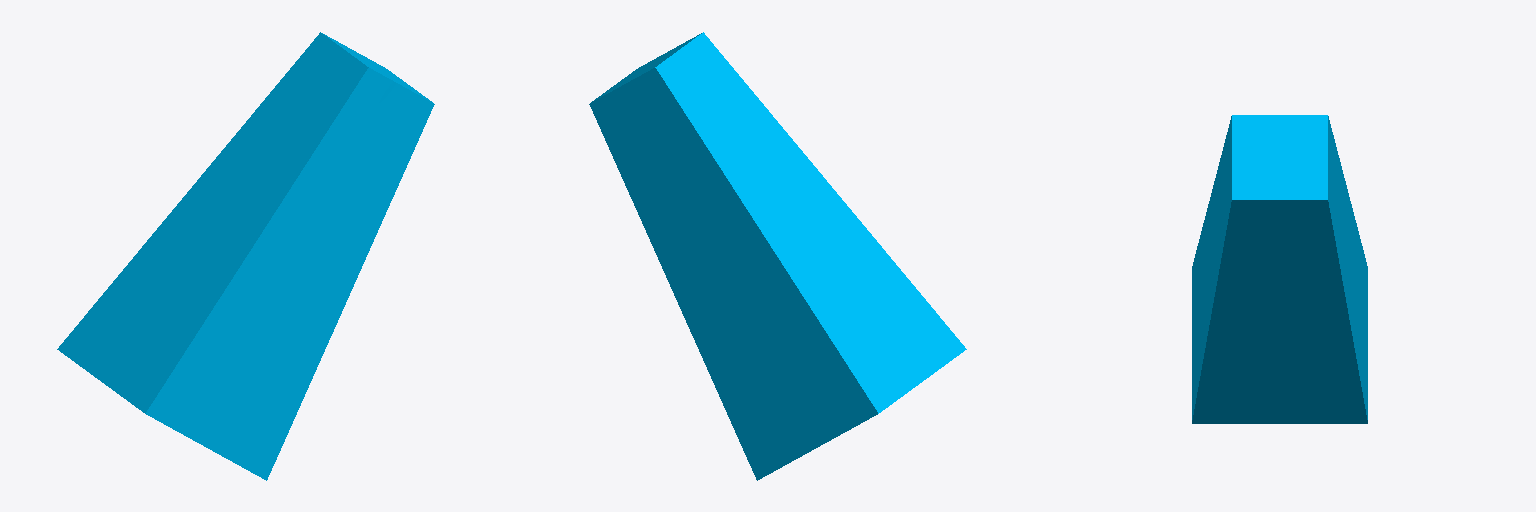
The picture shows the model from 3 angles: view 1: azimuth 30°, elevation 25°; view 2: azimuth 150°, elevation 25°; view 3: azimuth 270°, elevation 25°; orthographic projection.
Parts seen in each view (by area): view 1: 立方体.003; view 2: 立方体.003; view 3: 立方体.003.
Boxes of the visible parts, box(x1,y1,x2,y2) form: 立方体.003: box(57, 32, 434, 480); 立方体.003: box(589, 32, 966, 480); 立方体.003: box(1192, 115, 1367, 423).
Bounding box in the file's own units: 1.24 × 1.42 × 0.6129.
1 materials, 1 textured.